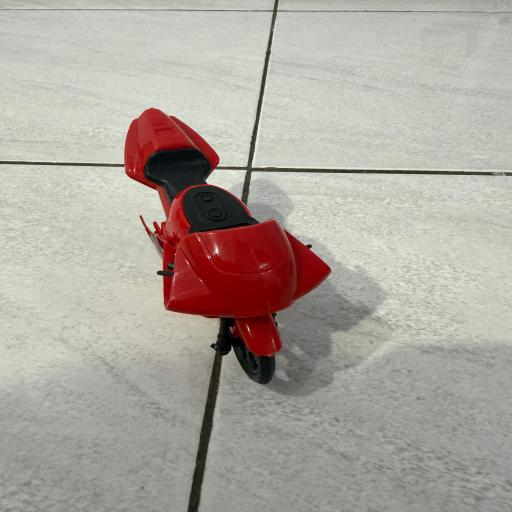motor-merah: (114, 104, 336, 391)
